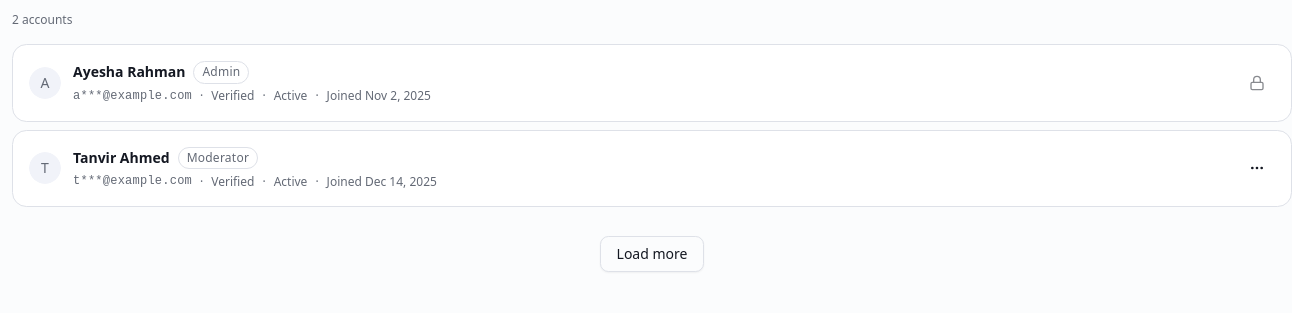
Scenario: UserList › keeps the loaded accounts when a next page fails
Expected: the list is shown, [12,44,1291,207]
Click the button "Load more". click: x=652, y=254
box: [600,236,704,272]
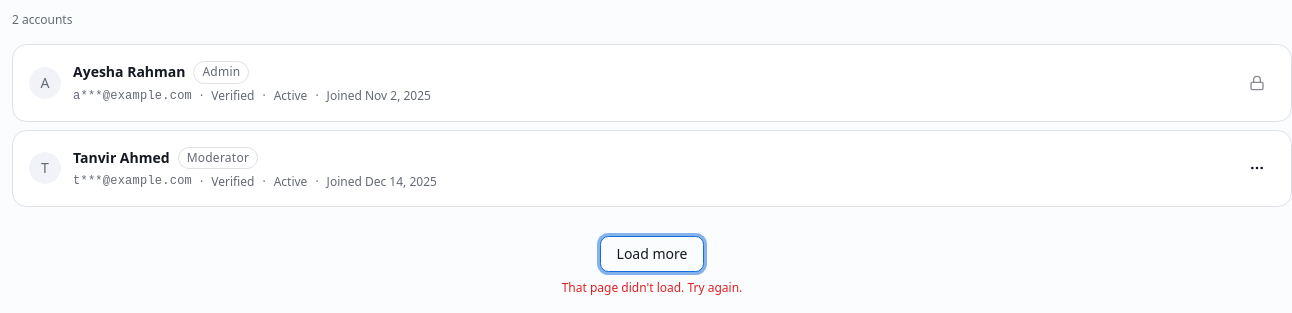
Expected: the number of list items is 2, [12,44,1291,122]; [12,130,1291,207]
Expected: the text "That page didn't load. Try again." is shown, [562,280,742,296]
